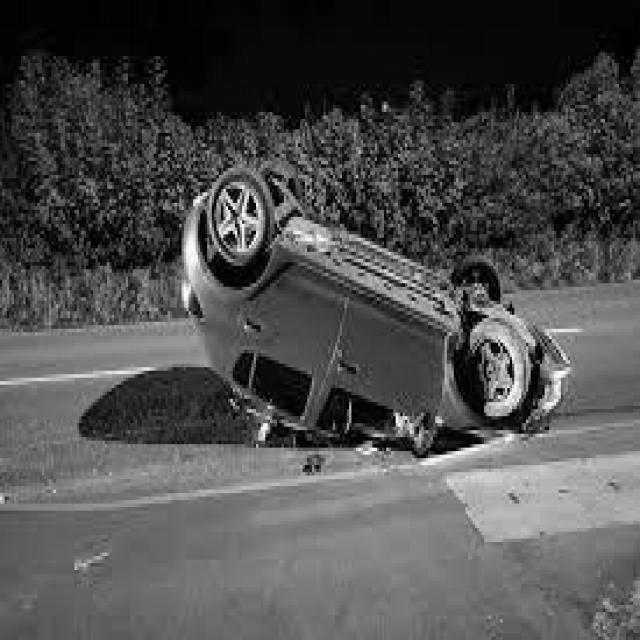accident: (174, 144, 572, 445)
